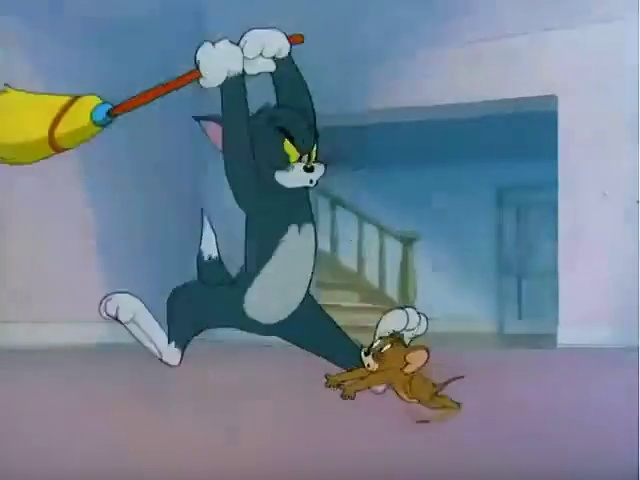jerry: (310, 301, 491, 436)
tom: (118, 10, 433, 403)
